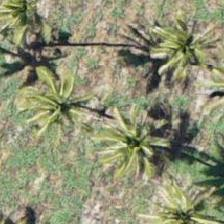coconut_tree: (128, 6, 218, 96), (84, 98, 174, 188), (12, 63, 102, 153), (0, 0, 64, 58)
